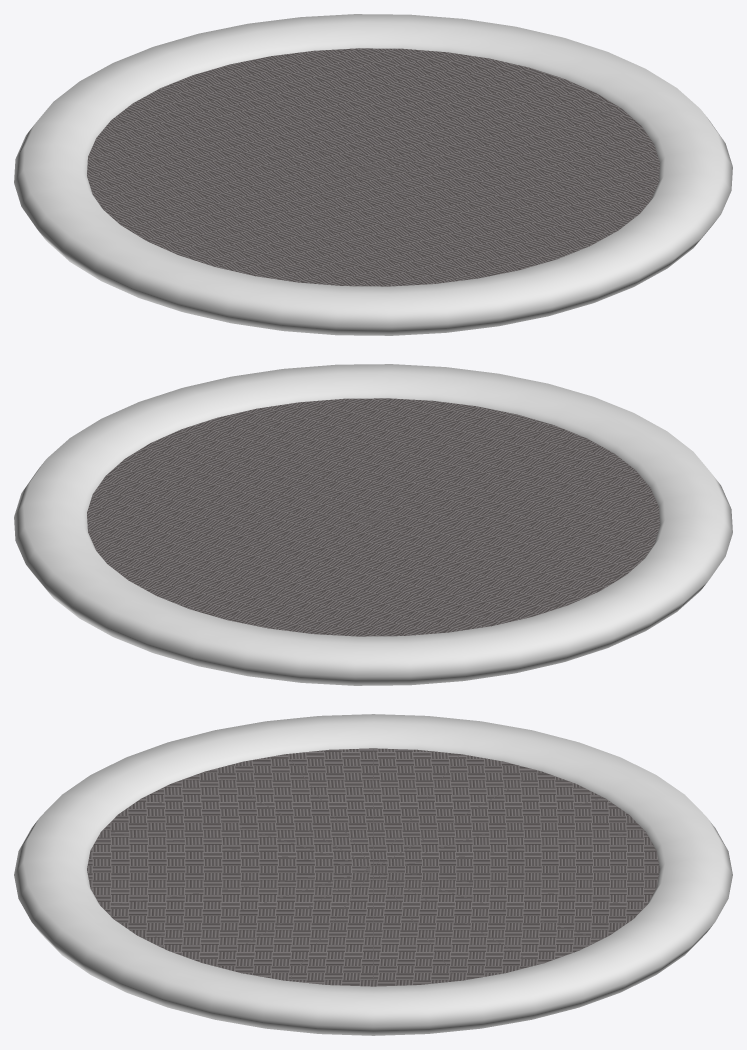
The model's file is Trampoline.fbx.
3 renders of one model, top to bottom at view 1: azimuth 30°, elevation 25°; view 2: azimuth 150°, elevation 25°; view 3: azimuth 270°, elevation 25°, orthographic.
Visible parts, largest first — view 1: pCylinder1, pPipe2; view 2: pCylinder1, pPipe2; view 3: pCylinder1, pPipe2.
Boxes of the visible parts, x1=… form: pCylinder1: x1=87, y1=48, x2=659, y2=286; pPipe2: x1=14, y1=14, x2=732, y2=335; pCylinder1: x1=87, y1=398, x2=659, y2=636; pPipe2: x1=14, y1=364, x2=732, y2=685; pCylinder1: x1=87, y1=748, x2=659, y2=986; pPipe2: x1=14, y1=714, x2=732, y2=1035.
Bounding box in the file's own units: 64.45 × 3.26 × 64.45.
2 materials, 1 textured.
